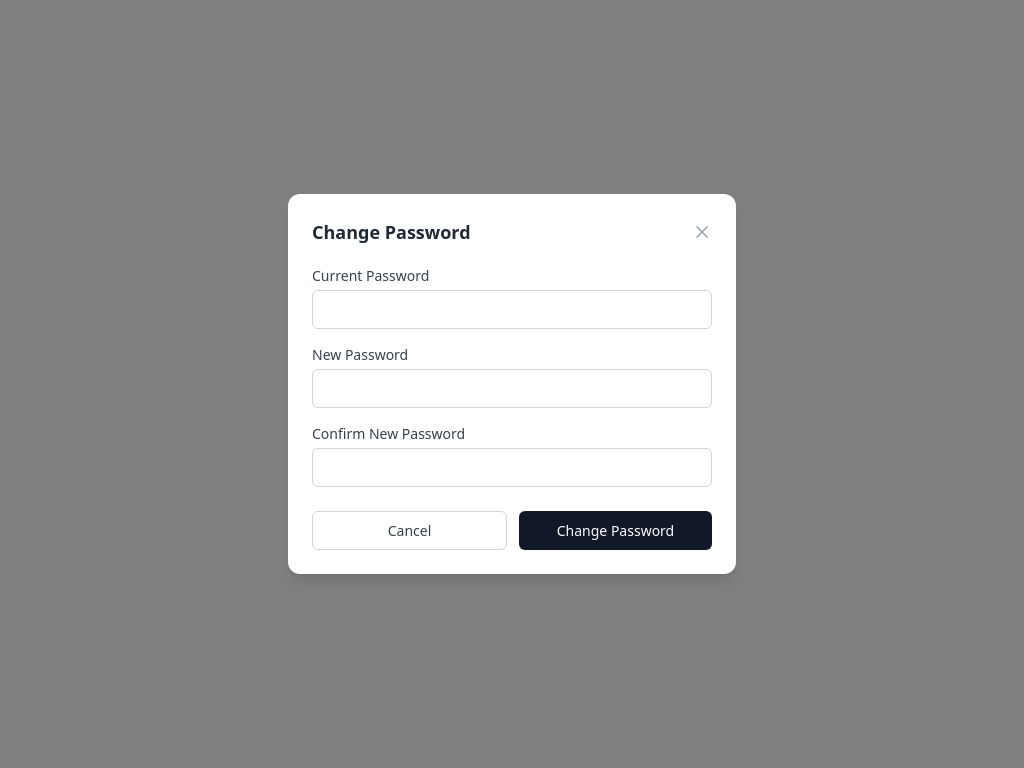
Test: ChangePassword Component › should show error when new password is too short
The image size is (1024, 768).
Type "old123" into the password field labelled "Current Password". click: [512, 310]
box: [312, 290, 712, 329]
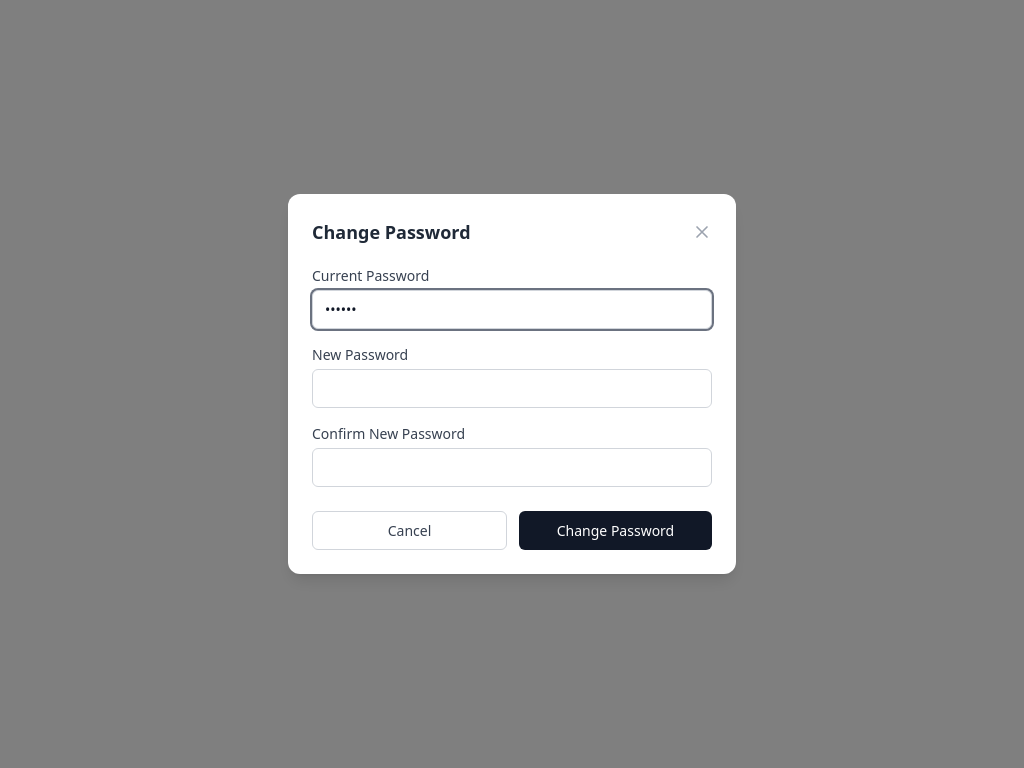
Type "ab" into the password field labelled "New Password". click: [512, 388]
box: [312, 369, 712, 408]
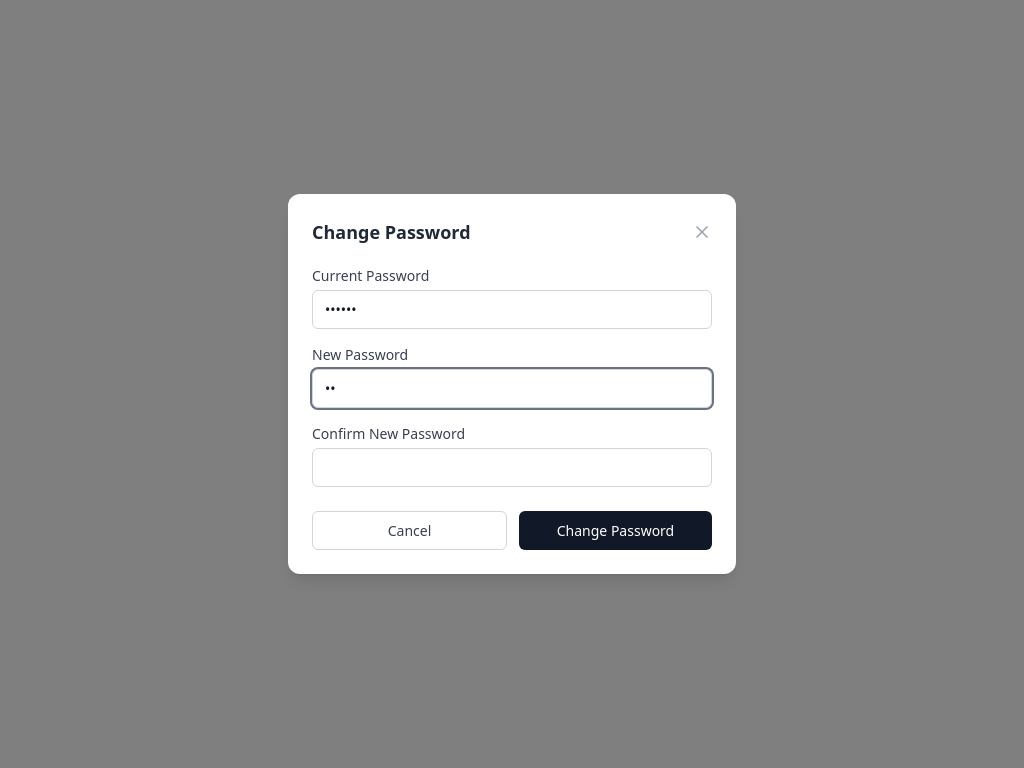
Type "ab" into the password field labelled "Confirm New Password". click: [512, 468]
box: [312, 448, 712, 487]
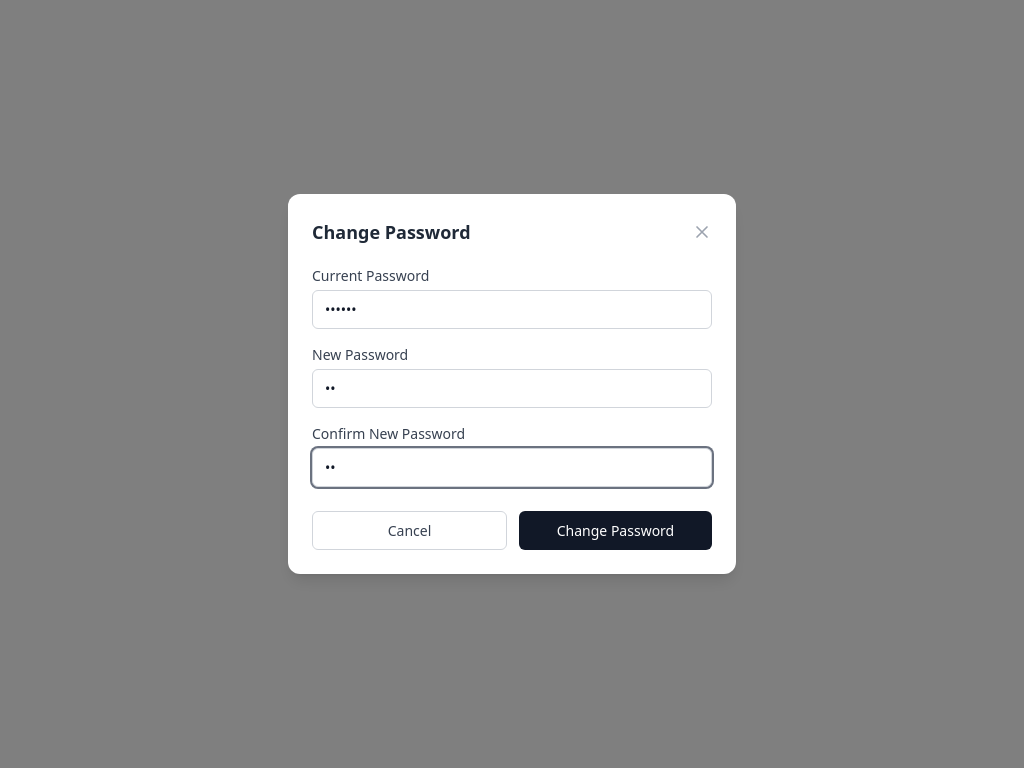
Click the button "Change Password". click: [616, 530]
box: [519, 511, 712, 550]
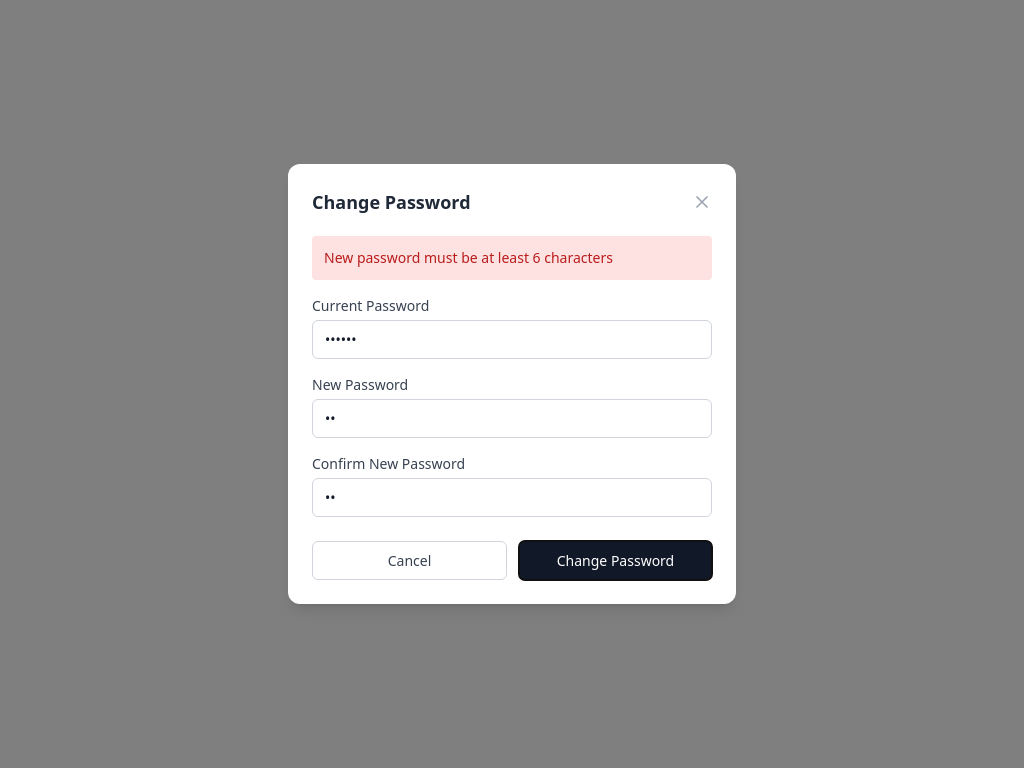
Check: the text "New password must be at least 6 characters" is shown, box [312, 236, 712, 280]
